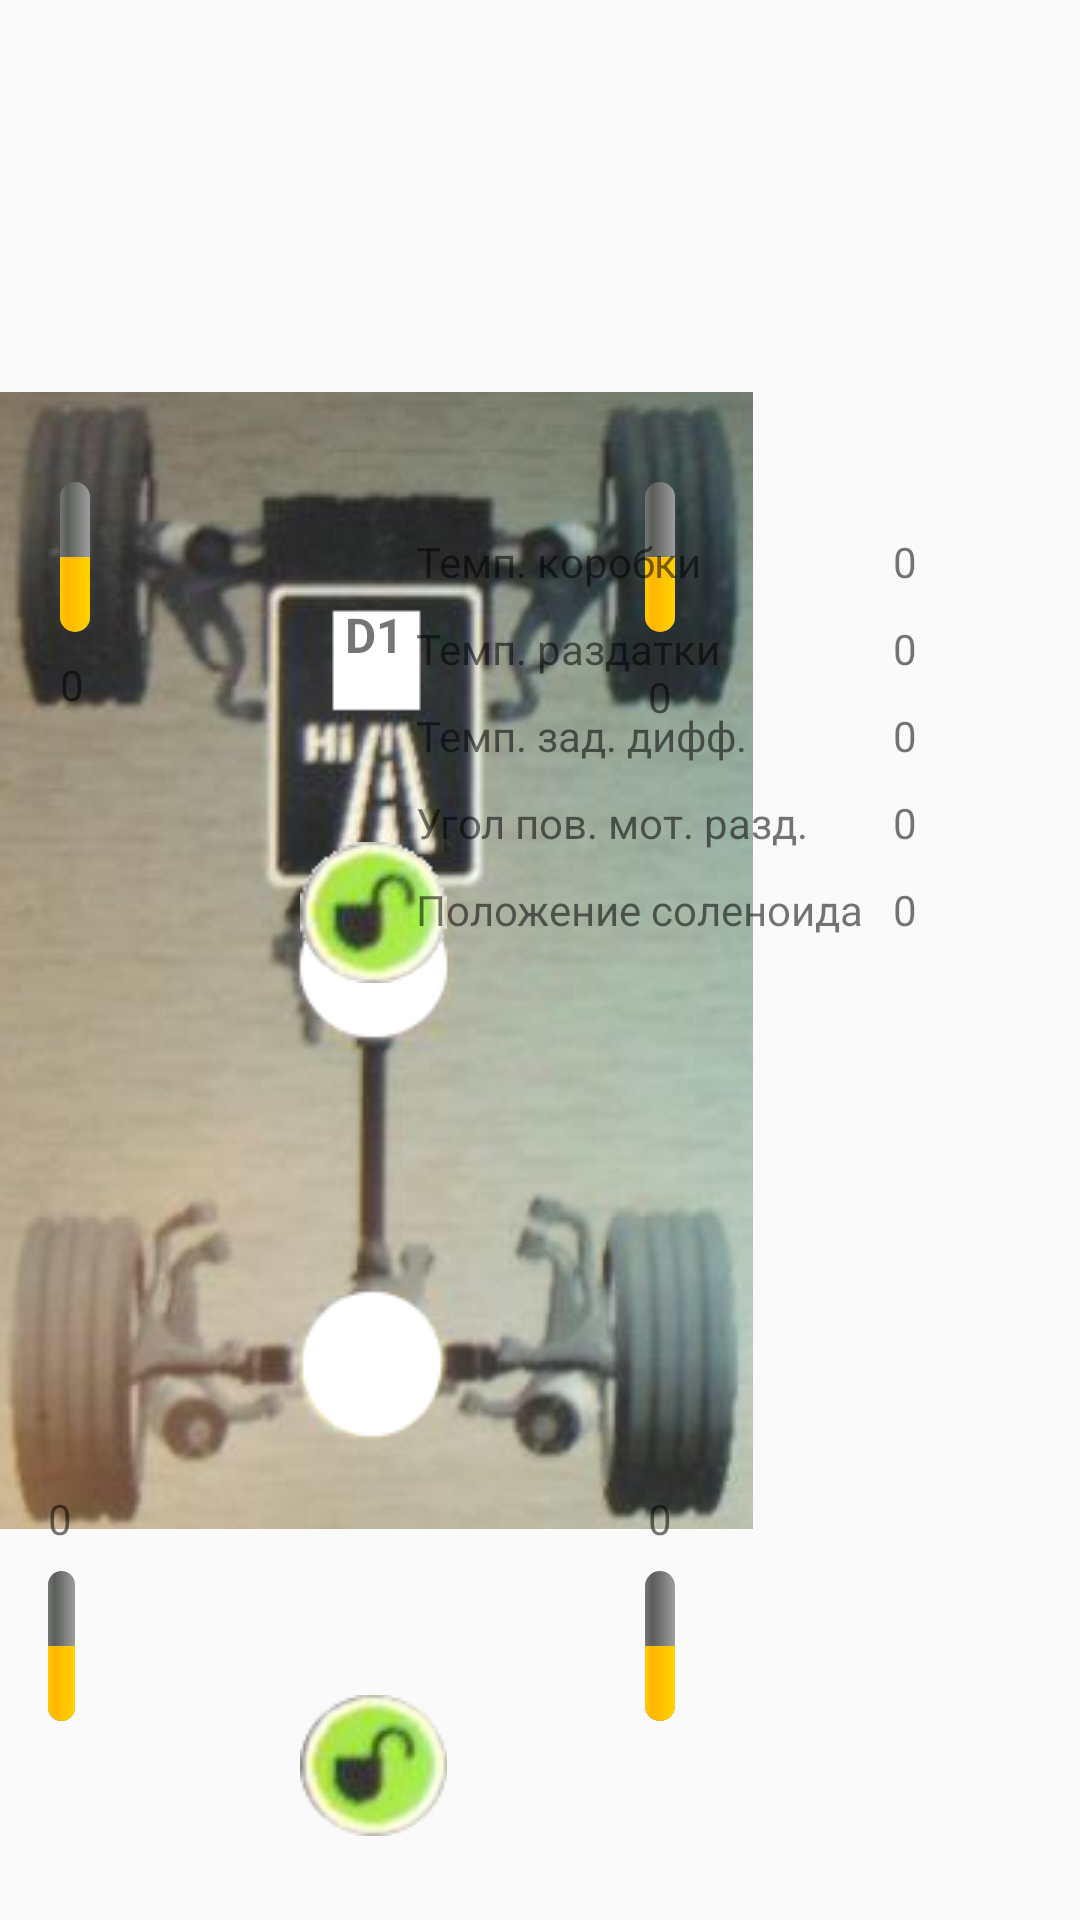

Where to tap for icons on this 1080×1920 app screen, as (x,y):
unlocked: (373,912), (373,1765)
